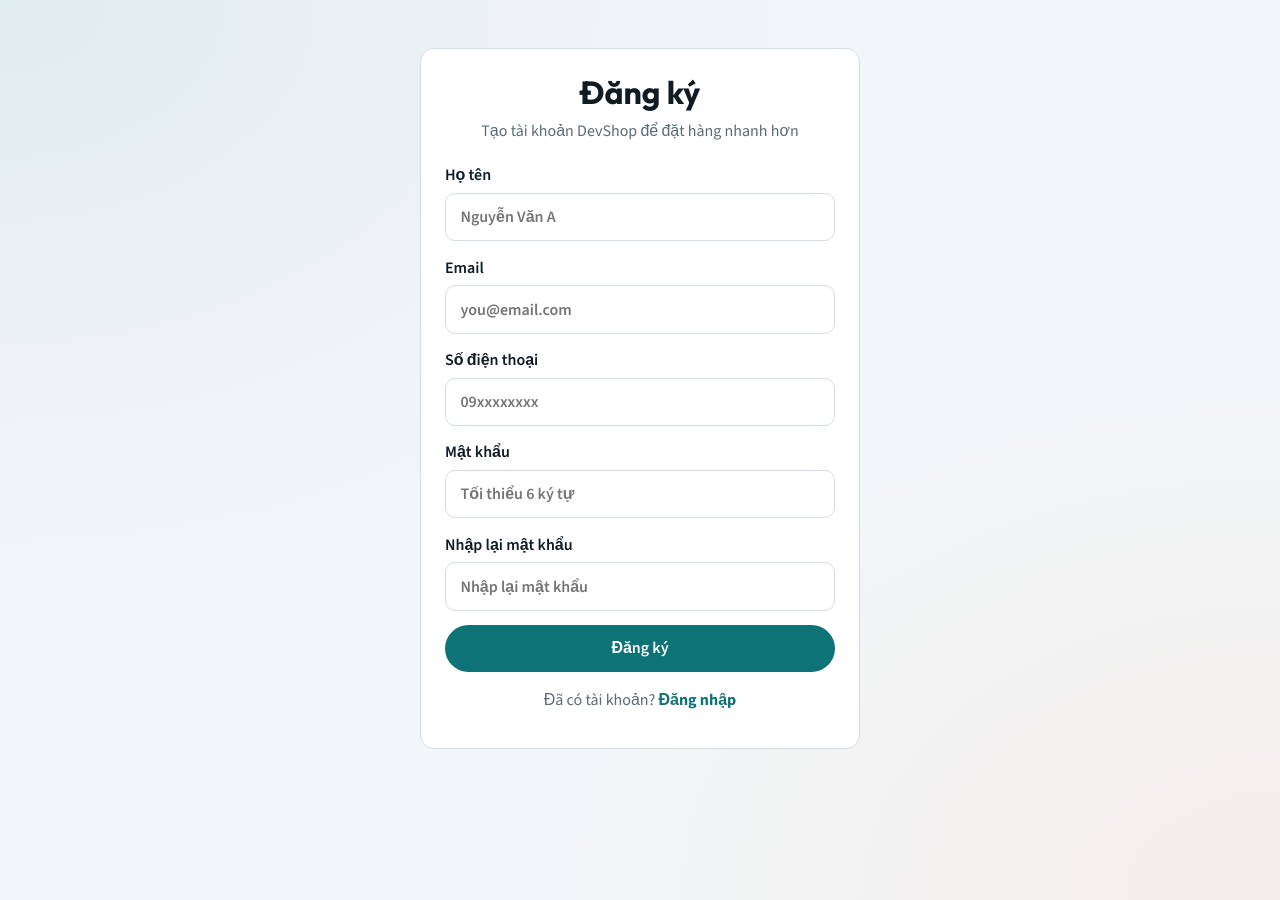
Test case: Trang Register › email sai định dạng: không gọi API
This screenshot has width=1280, height=900.
Type "A" into the field labelled "Họ tên" at (640, 217), box [445, 193, 835, 241]
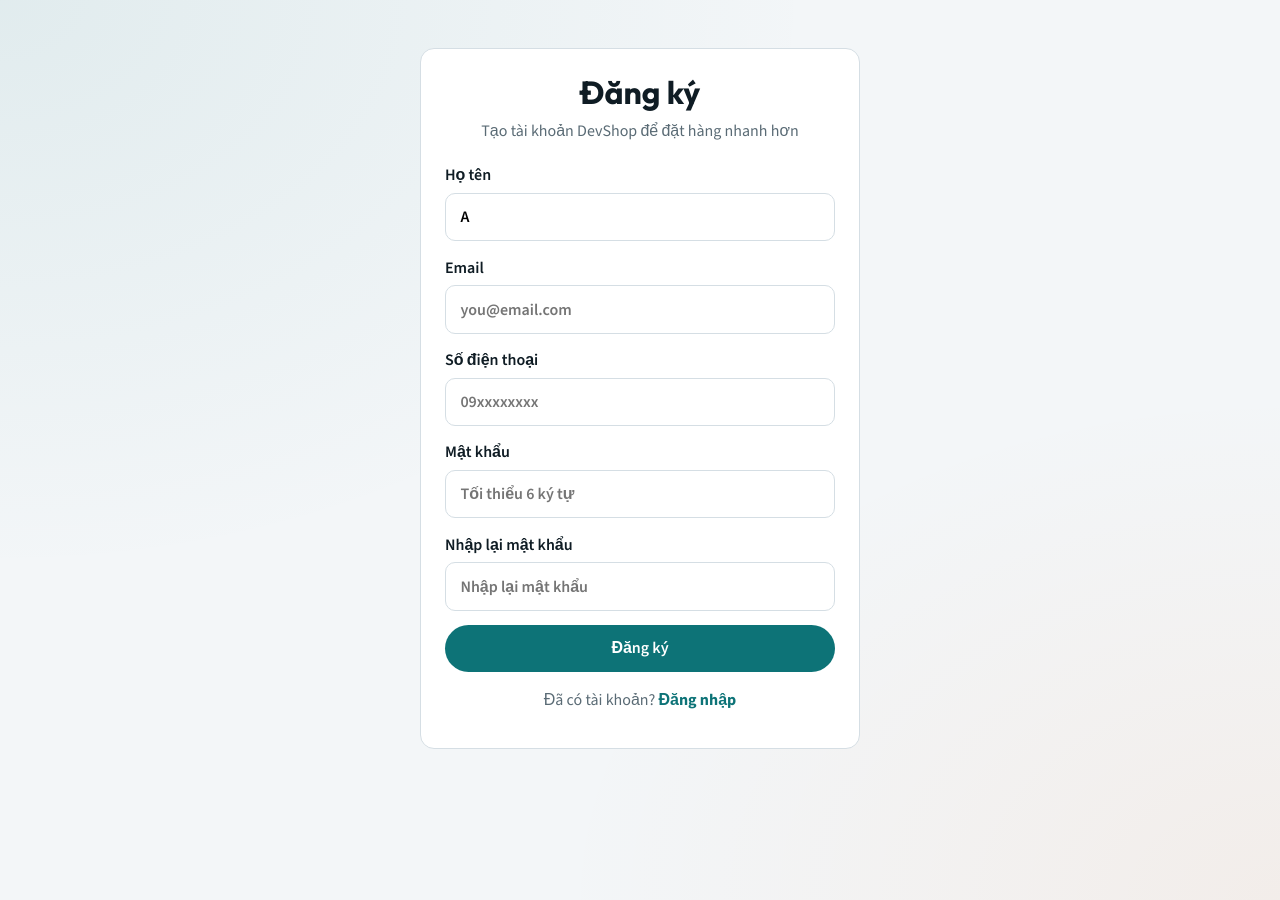
Type "khong-hop-le" into the field labelled "Email" at (640, 310), box [445, 285, 835, 334]
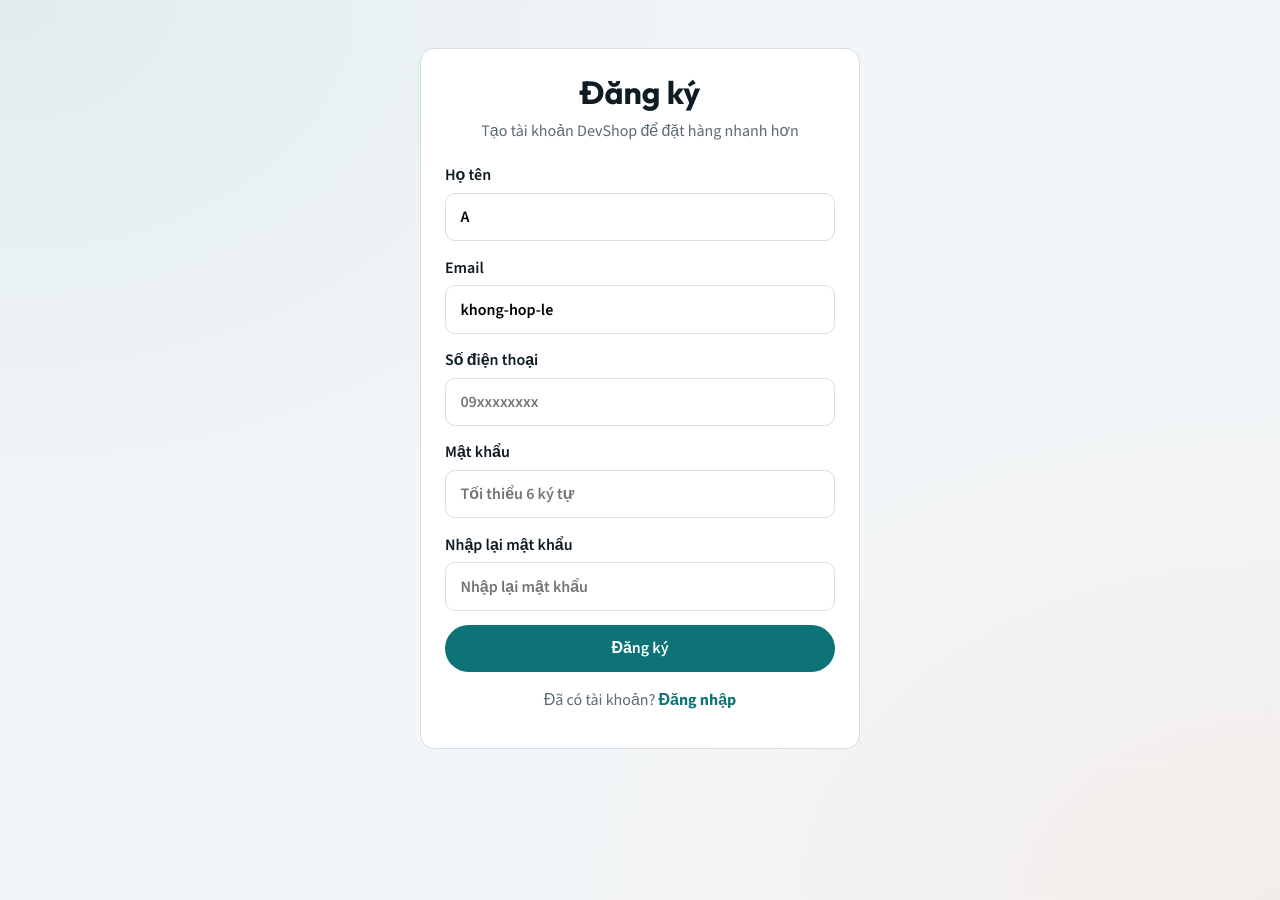
Type "09" into the field labelled "Số điện thoại" at (640, 402), box [445, 378, 835, 426]
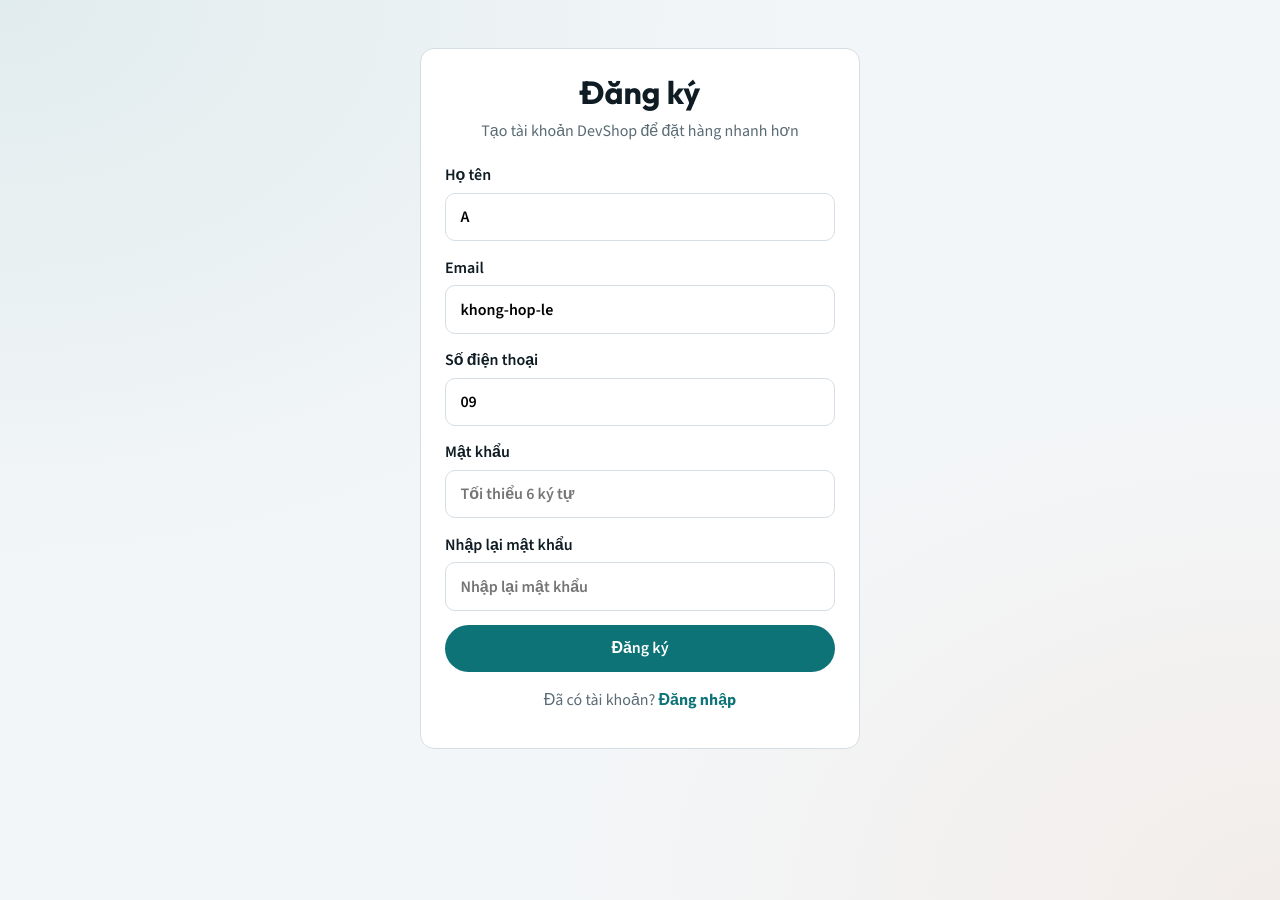
Type "123456" into the password field labelled "Mật khẩu" at (640, 494), box [445, 470, 835, 518]
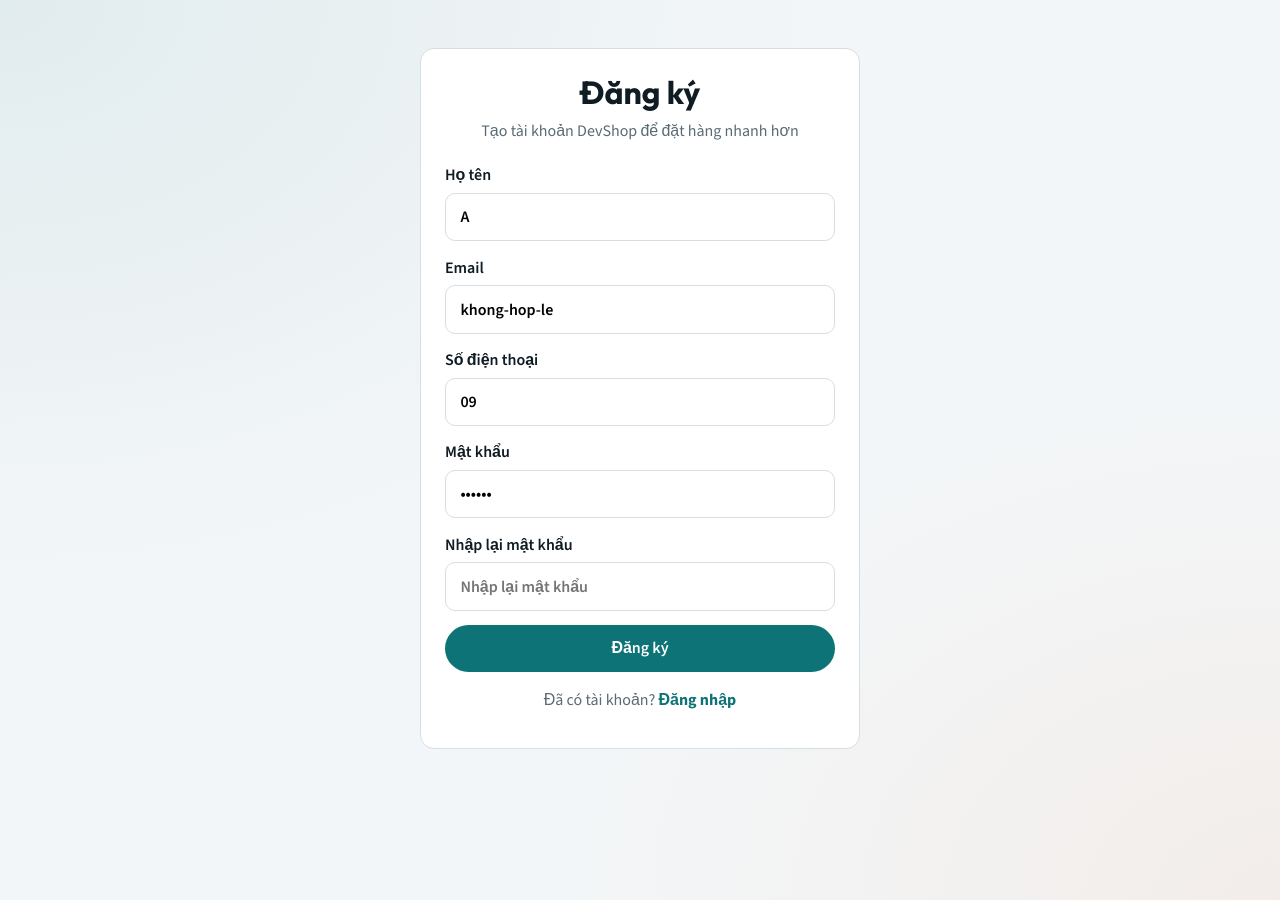
Type "123456" into the password field labelled "Nhập lại mật khẩu" at (640, 587), box [445, 562, 835, 611]
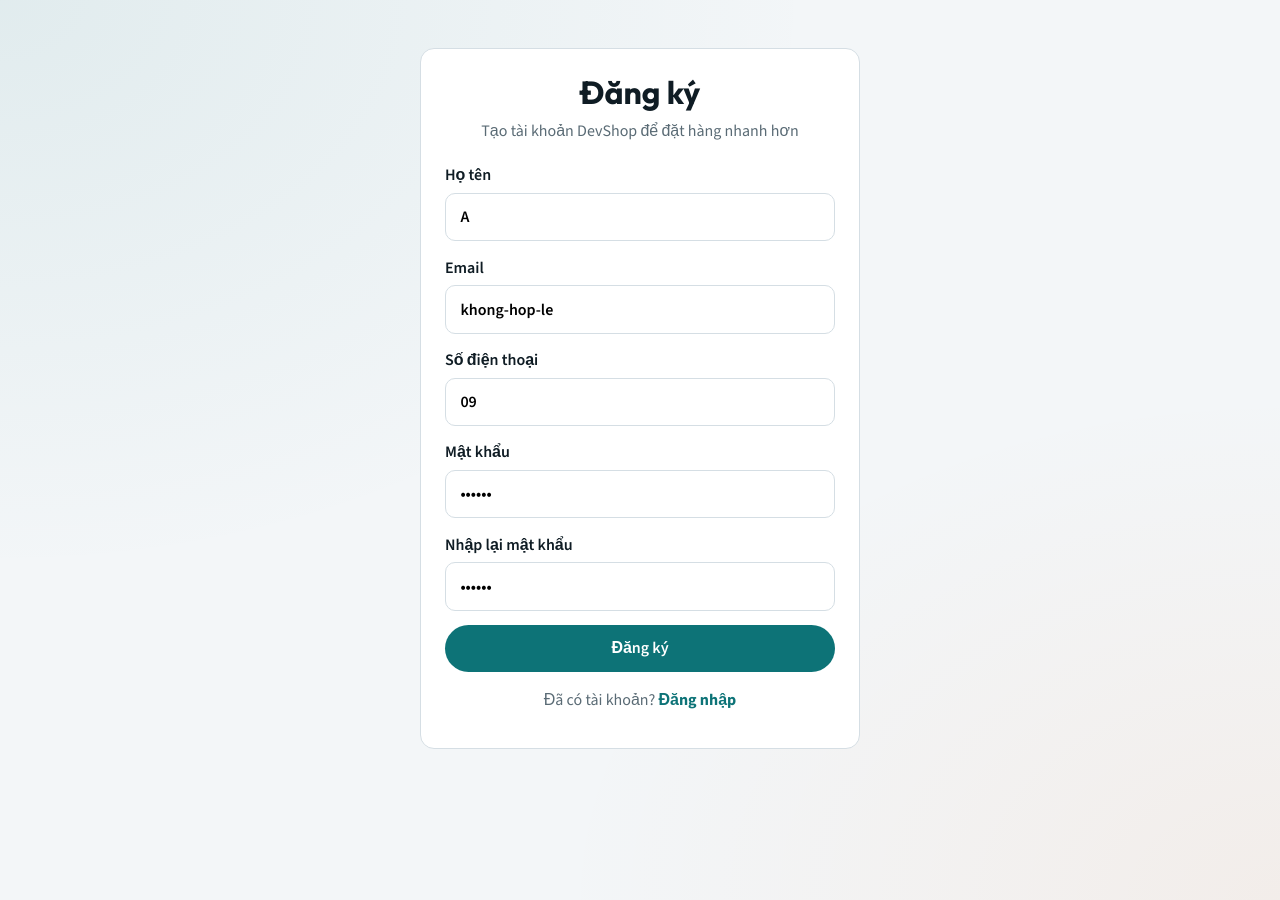
Click the button "Đăng ký" at (640, 648), box [445, 625, 835, 672]
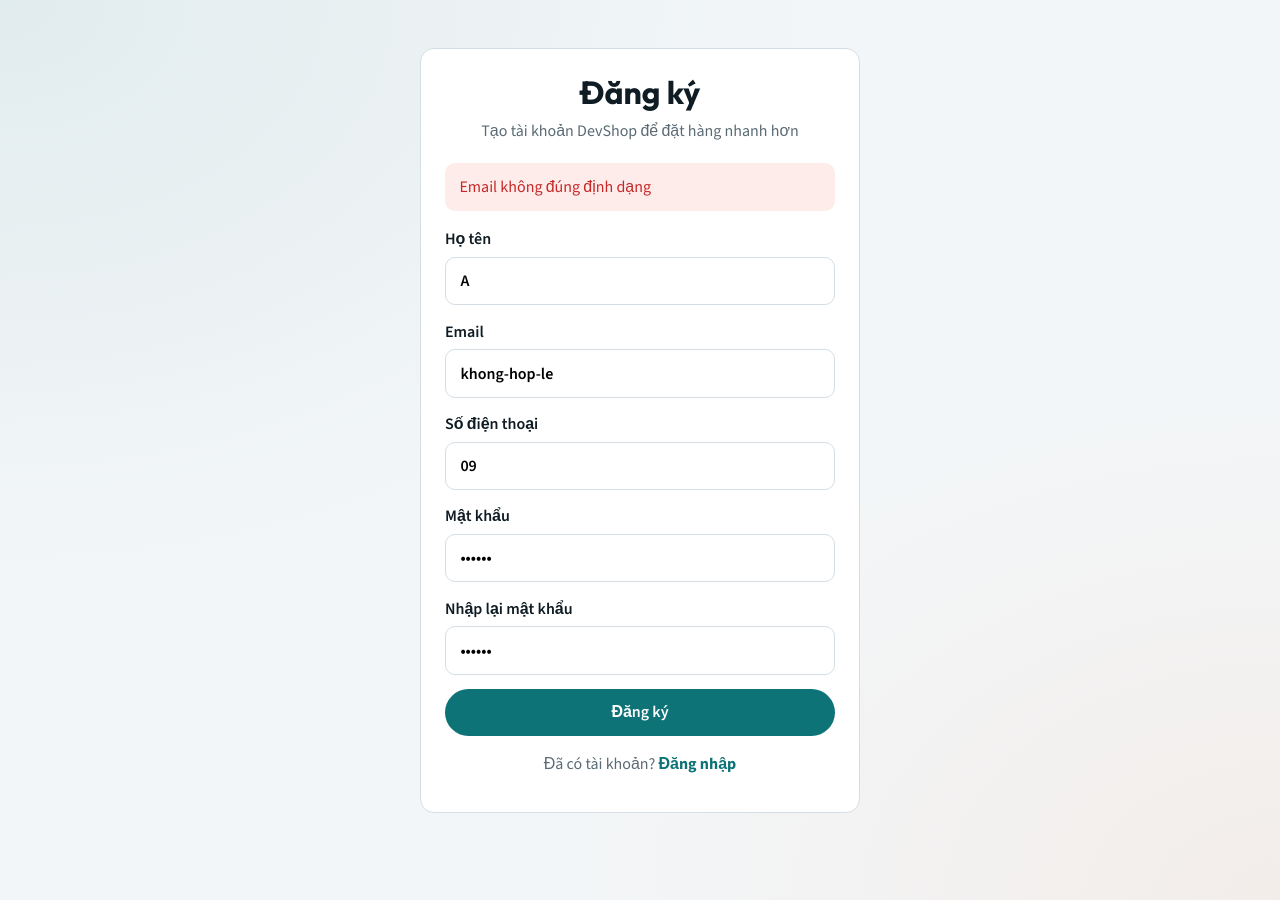
Expected: the text "Email không đúng định dạng" is shown, [445, 163, 835, 211]
